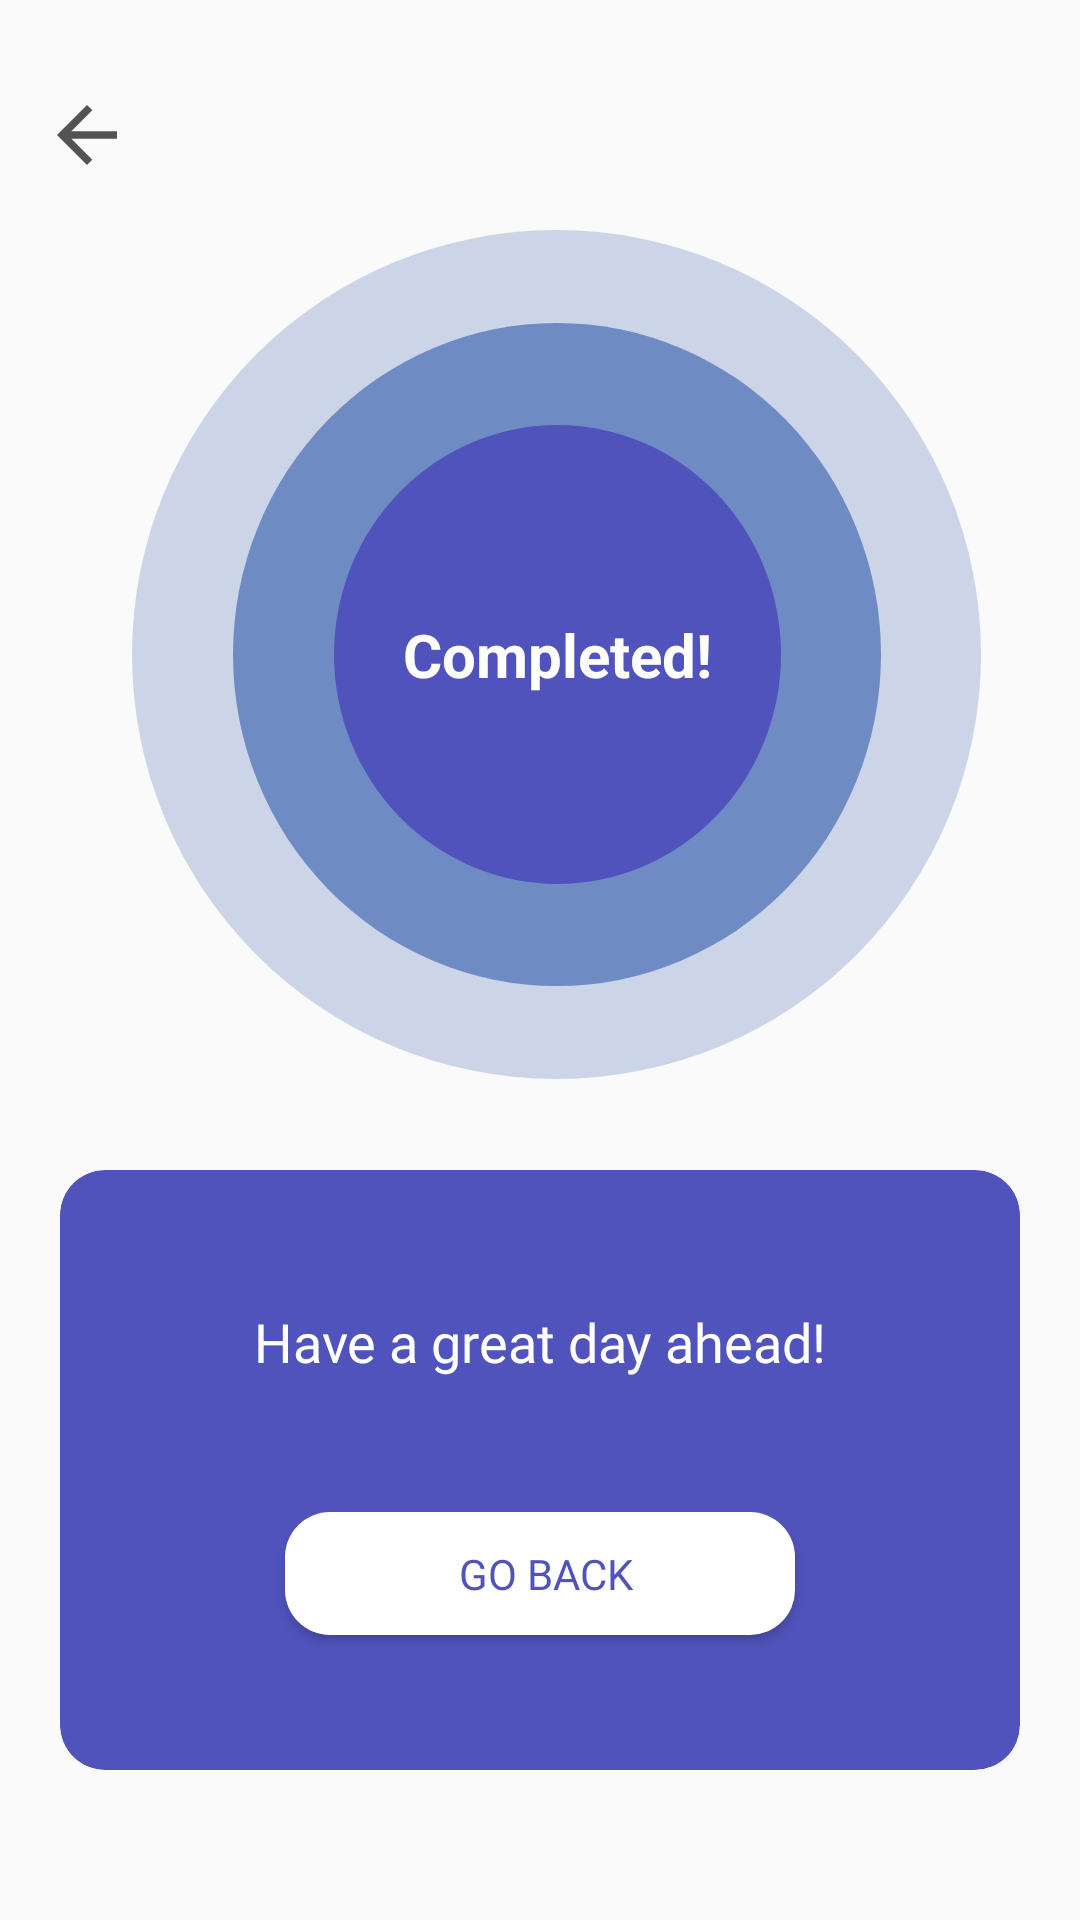

Icons on this 1080 × 1920 Android screen, each with its box as (x1, y1, x2, y2):
back: (57, 105, 117, 165)
